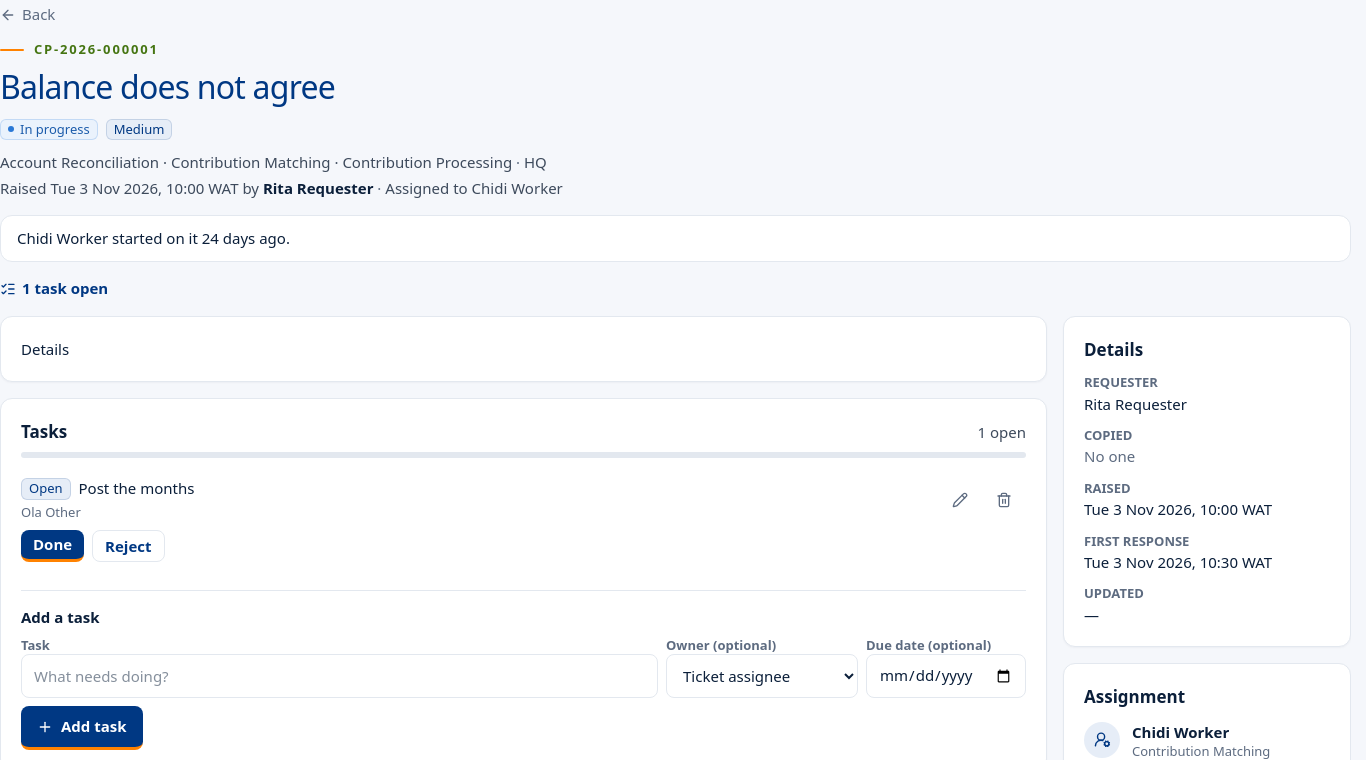
Test: Tasks panel › Reject asks for at least 5 characters, keeps the API's refusal in the dialog, then sends the reason
Click the button with aria-label "Reject: Post the months" at point(128, 546), box left=92, top=530, right=164, bottom=562
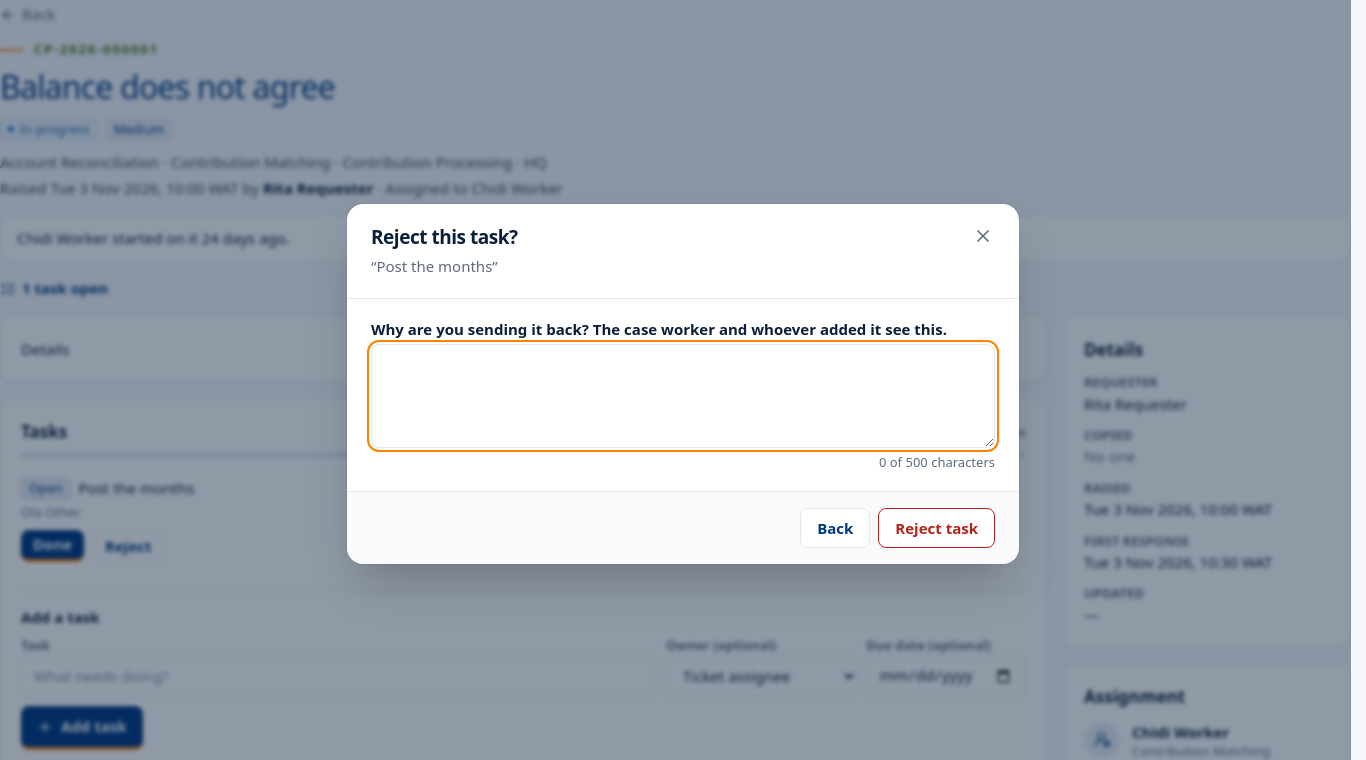
Type "Nope" into the text box at point(683, 396), box left=371, top=344, right=995, bottom=448
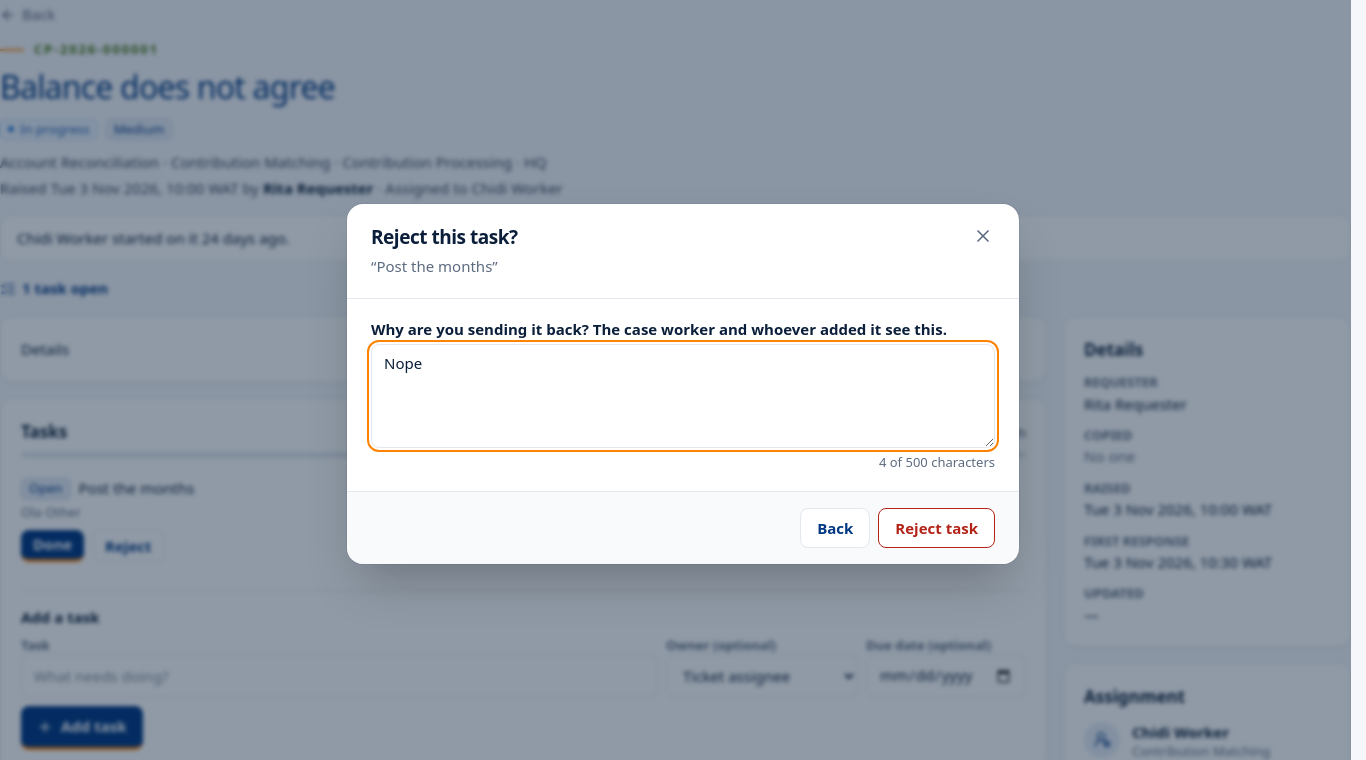
Click the button "Reject task" at point(937, 528), box left=878, top=508, right=995, bottom=548
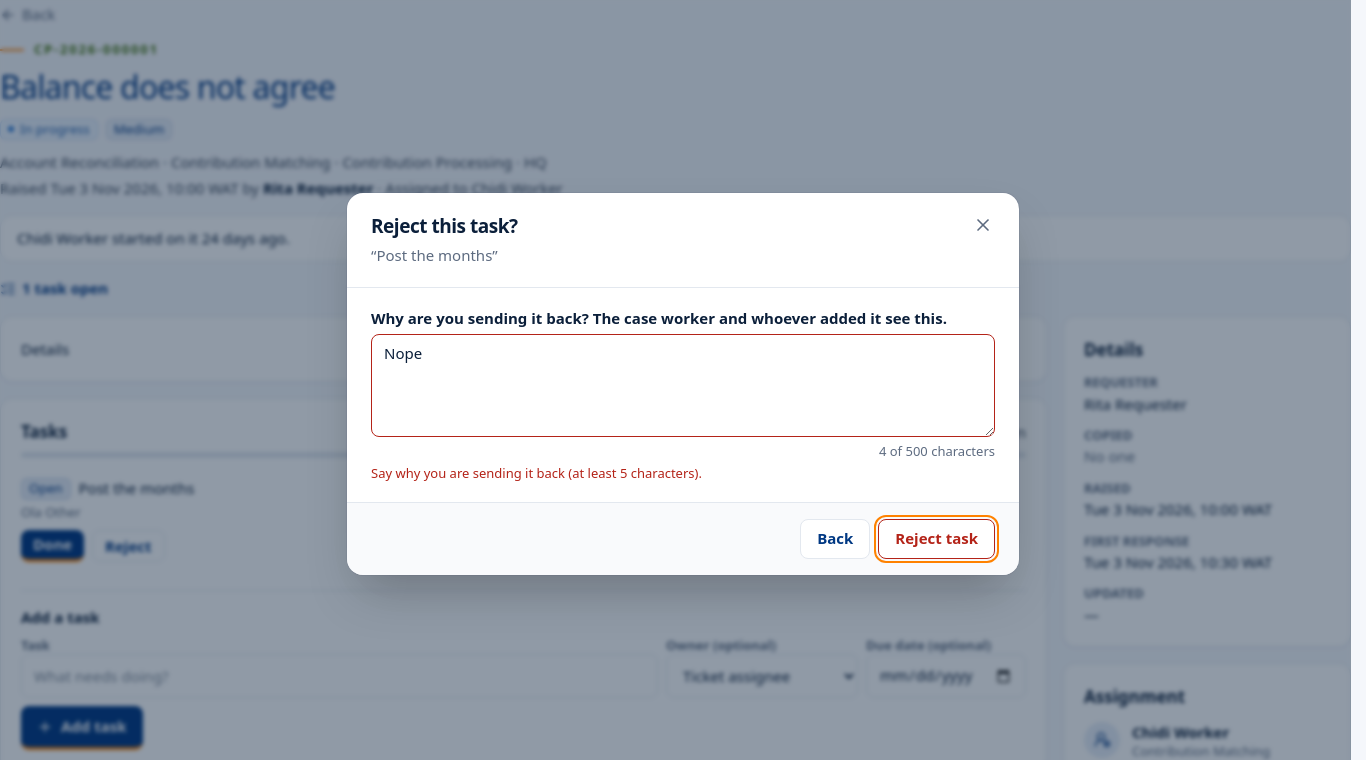
Check: the text "Say why you are sending it back (at least 5 characters)." is shown, box left=371, top=464, right=702, bottom=482
Type " - not my area" into the text box at point(683, 386), box left=371, top=334, right=995, bottom=438
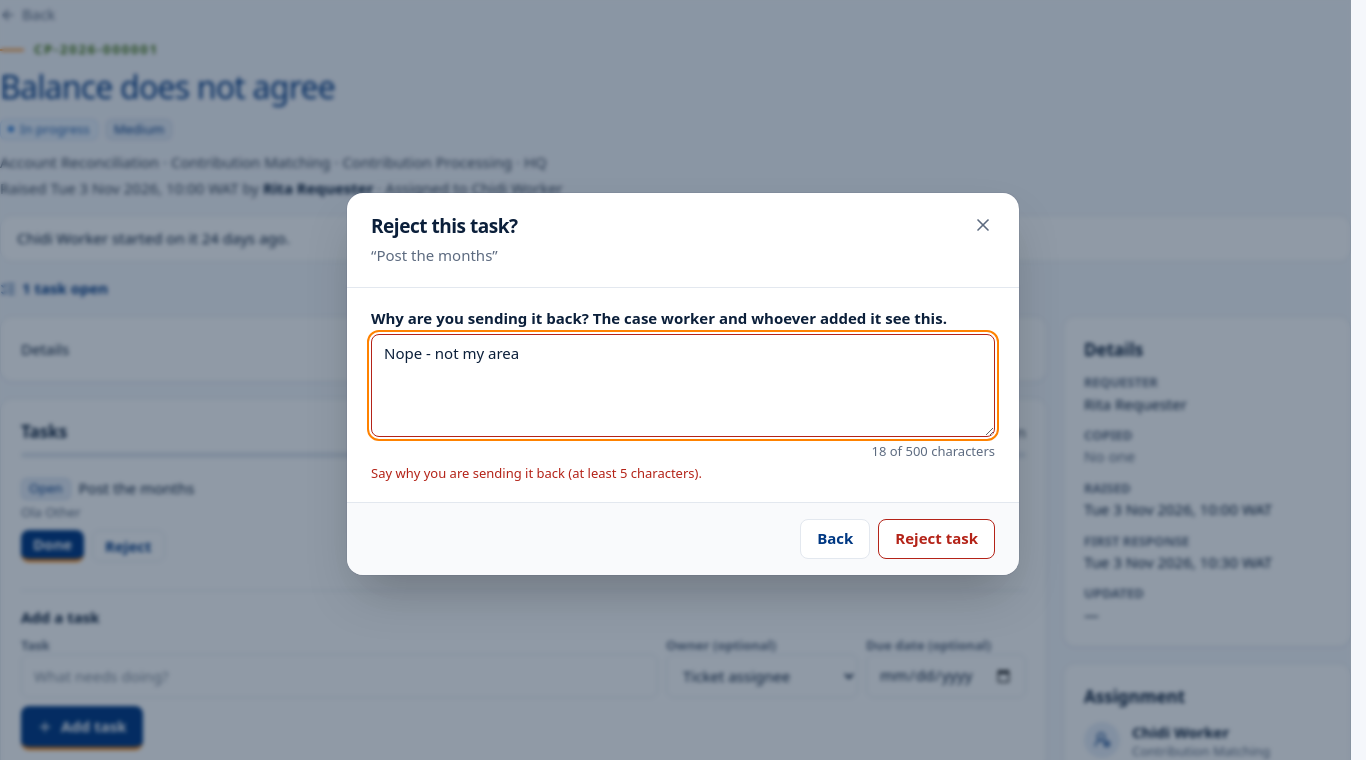
Click the button "Reject task" at point(937, 539), box left=878, top=519, right=995, bottom=559
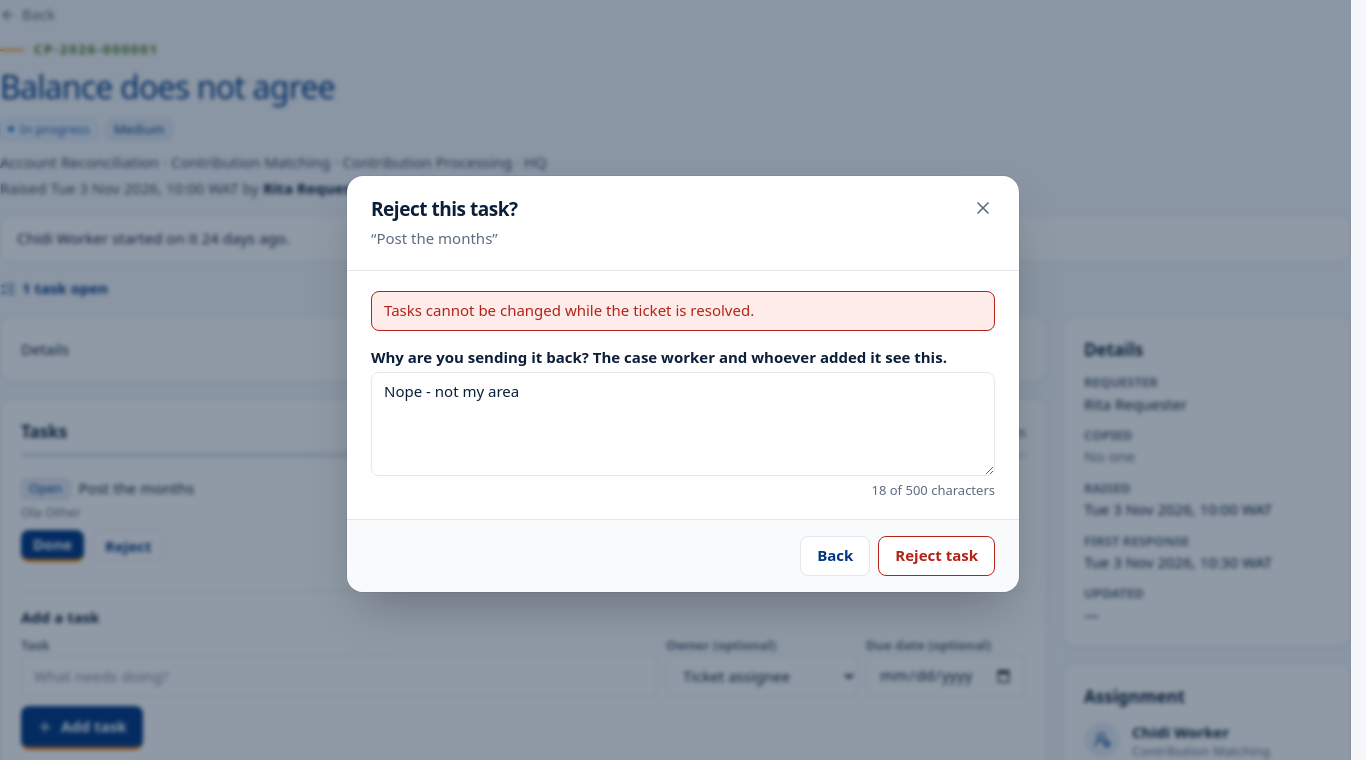
Check: the dialog "Reject this task?" is shown, box left=347, top=176, right=1019, bottom=592
Check: the message reads "Tasks cannot be changed while the ticket is resolved.", box left=384, top=300, right=754, bottom=320
Click the button "Reject task" at point(937, 556), box left=878, top=536, right=995, bottom=576
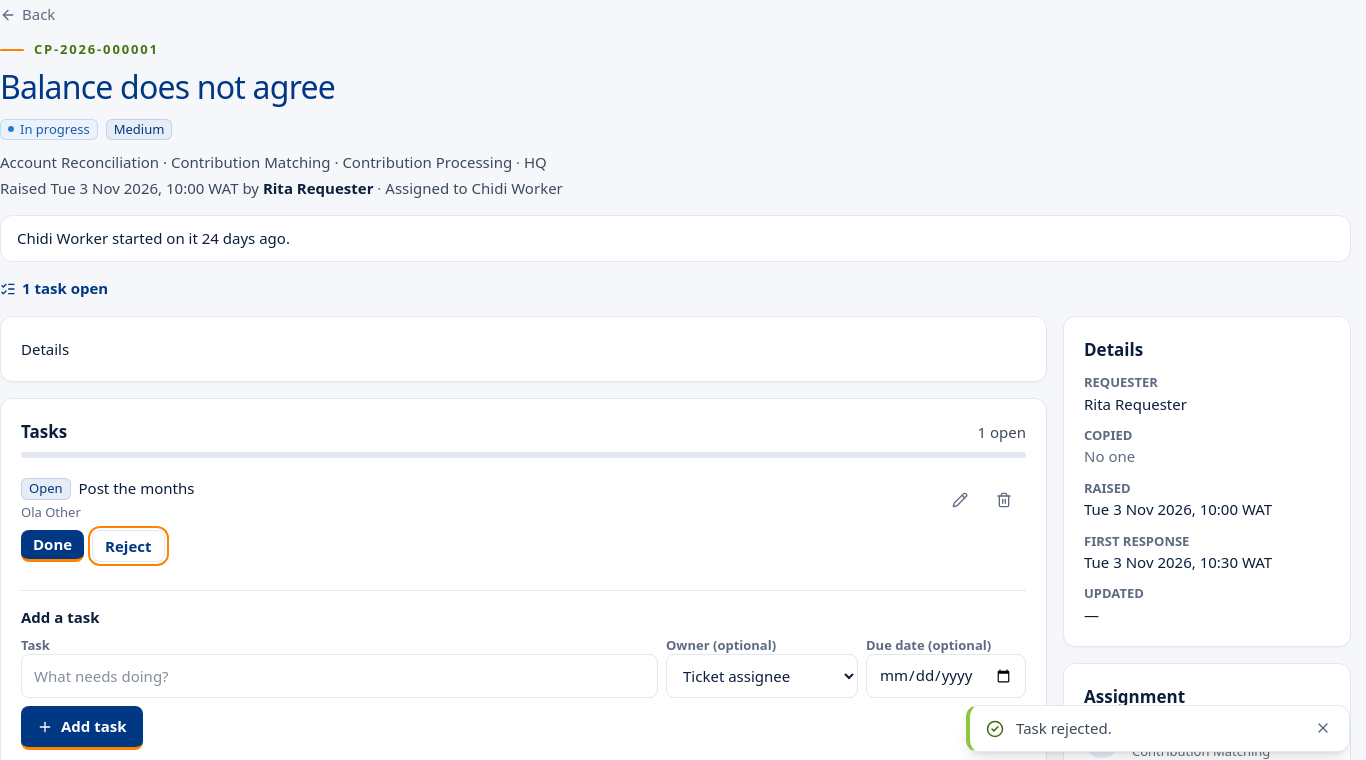
Check: the heading "Reject this task?" is gone
